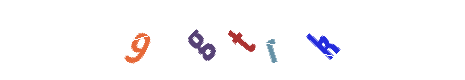9: (139, 0, 219, 80)
G: (162, 0, 242, 80)
K: (284, 0, 364, 80)
R: (231, 0, 311, 80)
T: (192, 0, 272, 80)
